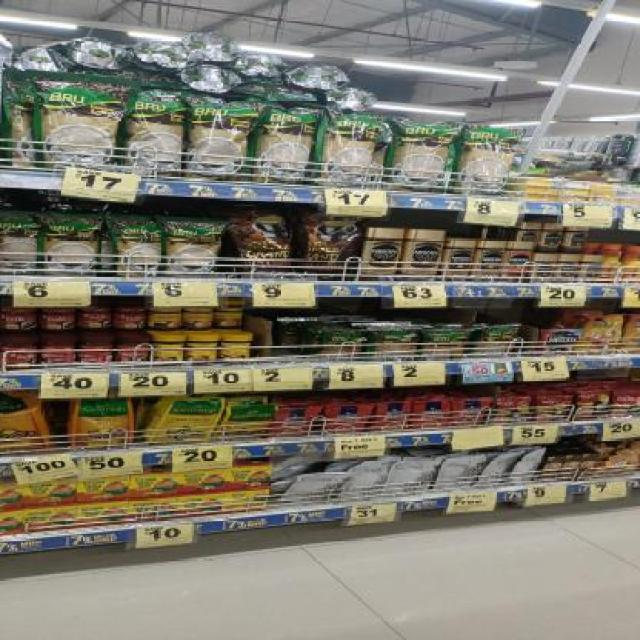Coffee: (362, 228, 403, 282), (405, 229, 444, 282), (581, 316, 622, 355), (446, 238, 476, 282), (478, 240, 508, 283), (543, 330, 579, 355), (601, 244, 621, 281), (620, 245, 640, 281), (580, 255, 603, 283), (533, 254, 555, 283), (564, 227, 587, 253), (540, 223, 560, 252), (558, 254, 578, 283)
